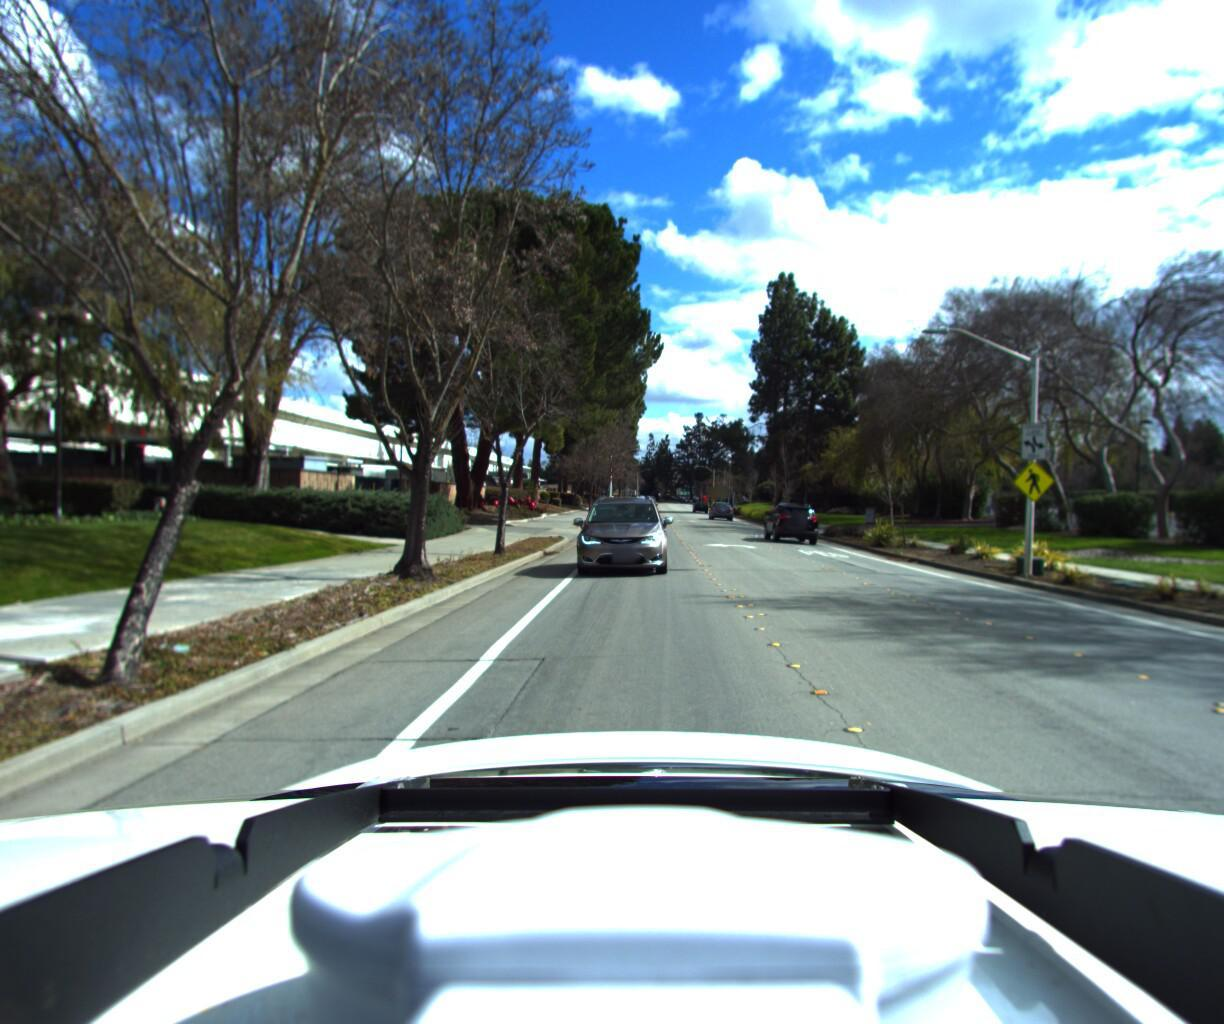car: (569, 500, 668, 591), (755, 511, 813, 550), (707, 511, 733, 529)
